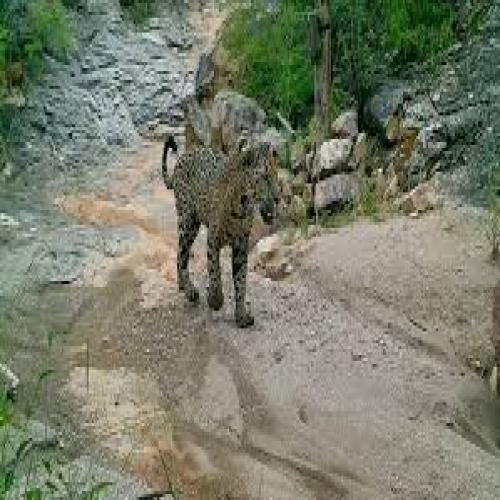jaguar_not-endangered: (159, 134, 286, 326)
